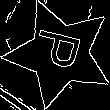P_E: (29, 30, 90, 78)
